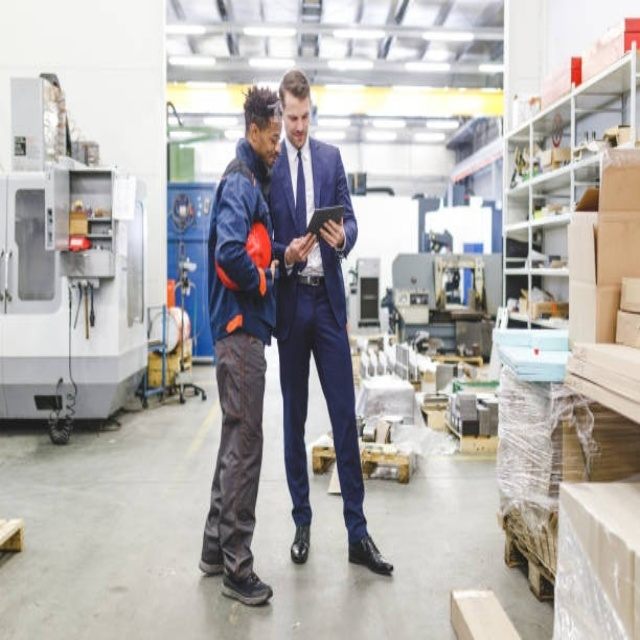Sin_gafas: (256, 126, 283, 147), (285, 104, 313, 124)
Sin_guantes: (285, 231, 315, 265), (320, 215, 347, 251)
Sin_mascara: (261, 145, 280, 172), (292, 130, 305, 139)
